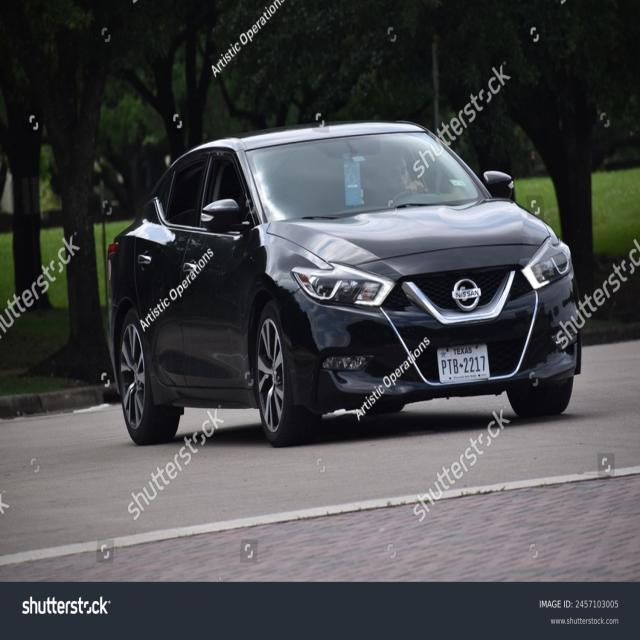nissan: (448, 280, 486, 310)
